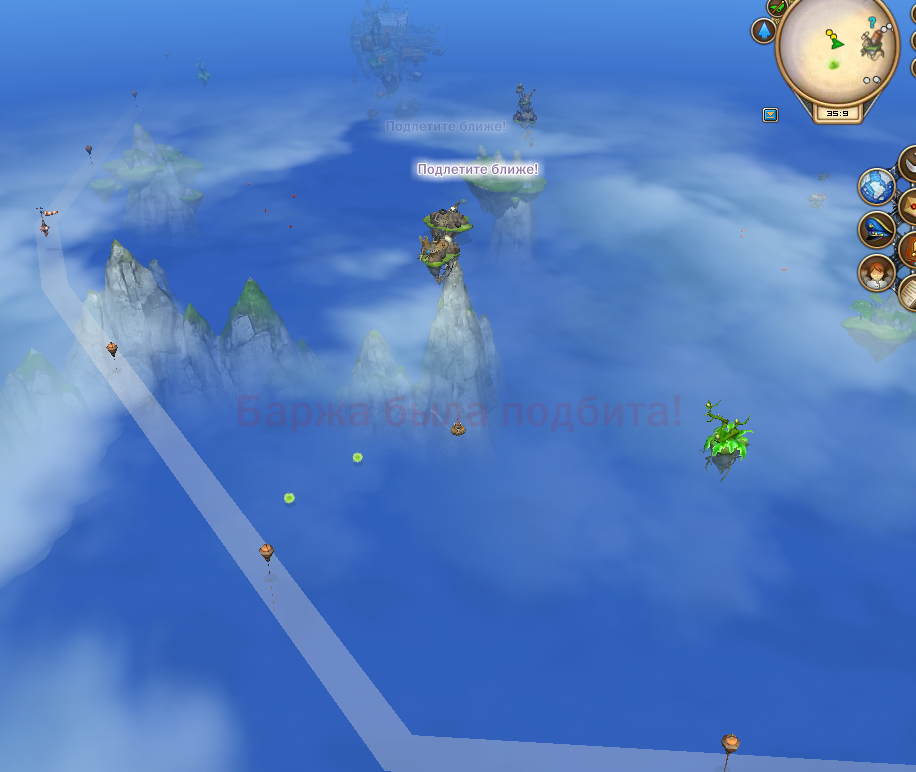dandelion-empty: (699, 396, 755, 479)
dandelion-full: (192, 55, 214, 90)
fluff: (348, 448, 366, 469), (281, 490, 299, 509)
